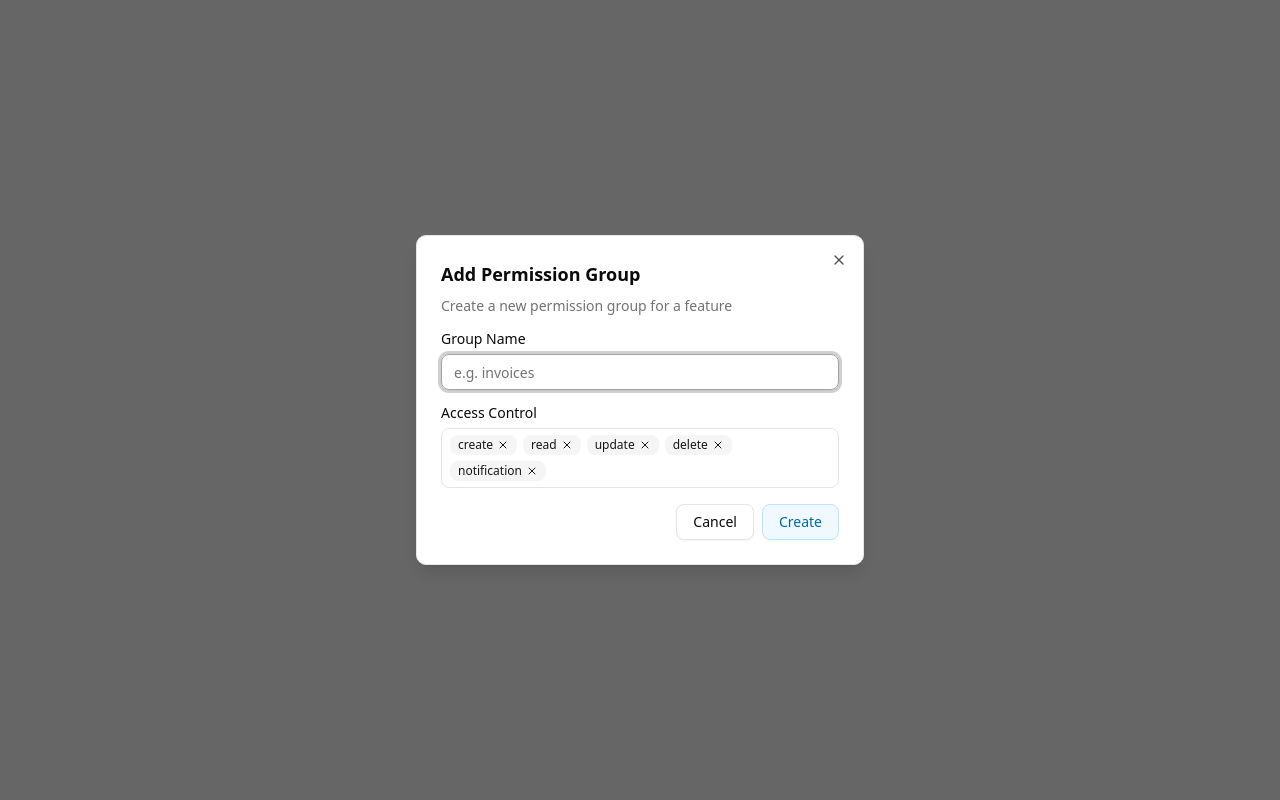
Test: PermissionGroupDialog — create mode › group name with hyphen → resource pattern error
The image size is (1280, 800).
In the field with placeholder "e.g. invoices": (640, 372) [441,354,839,390], type "bad-name"
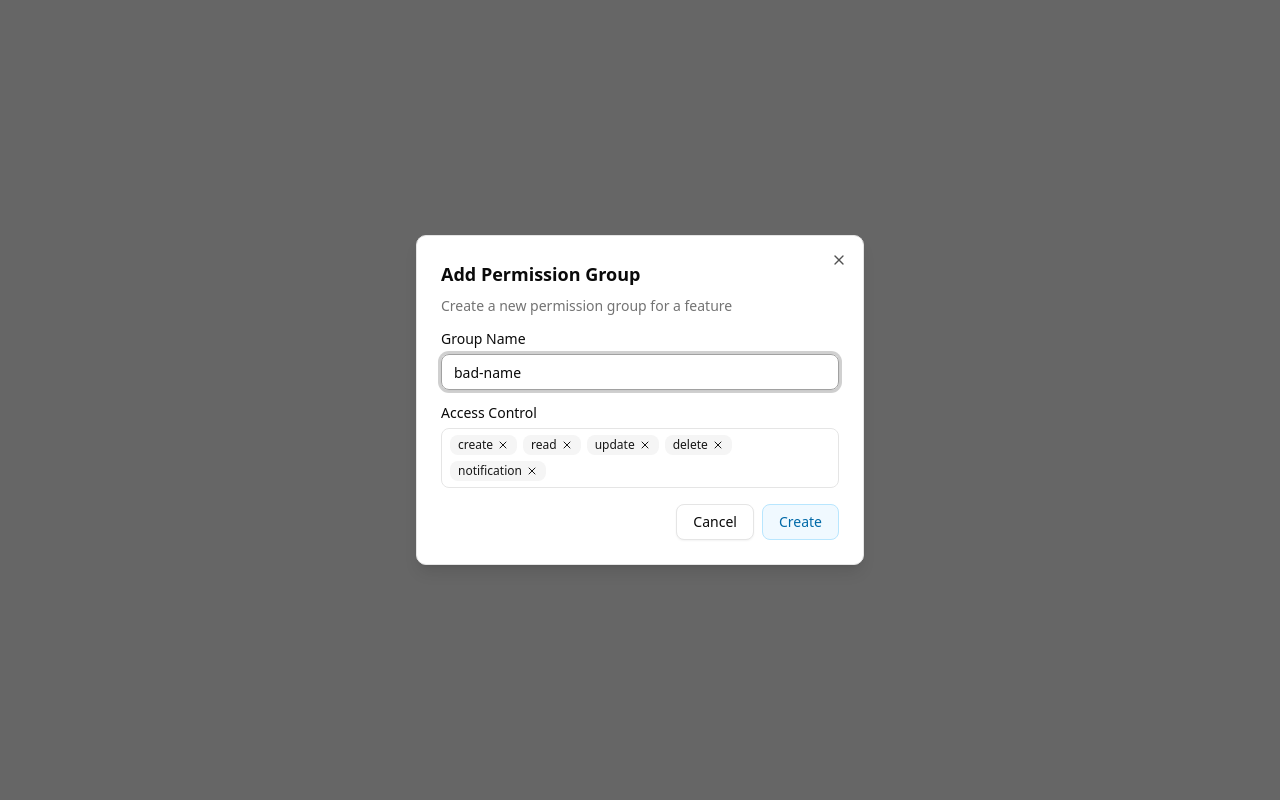
Click the button "Create": (800, 522) [762,504,839,540]
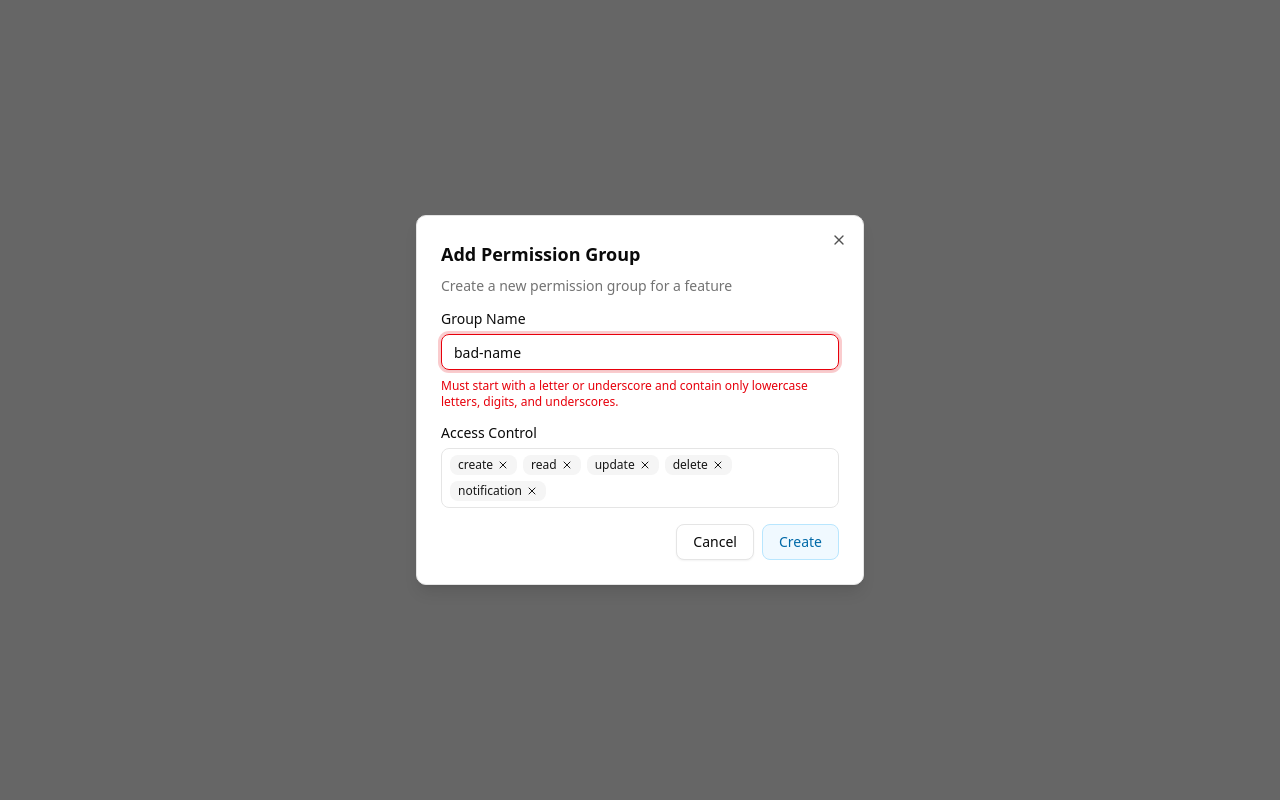
Expected: the text "Must start with a letter or underscore" is shown, [441,377,808,410]
